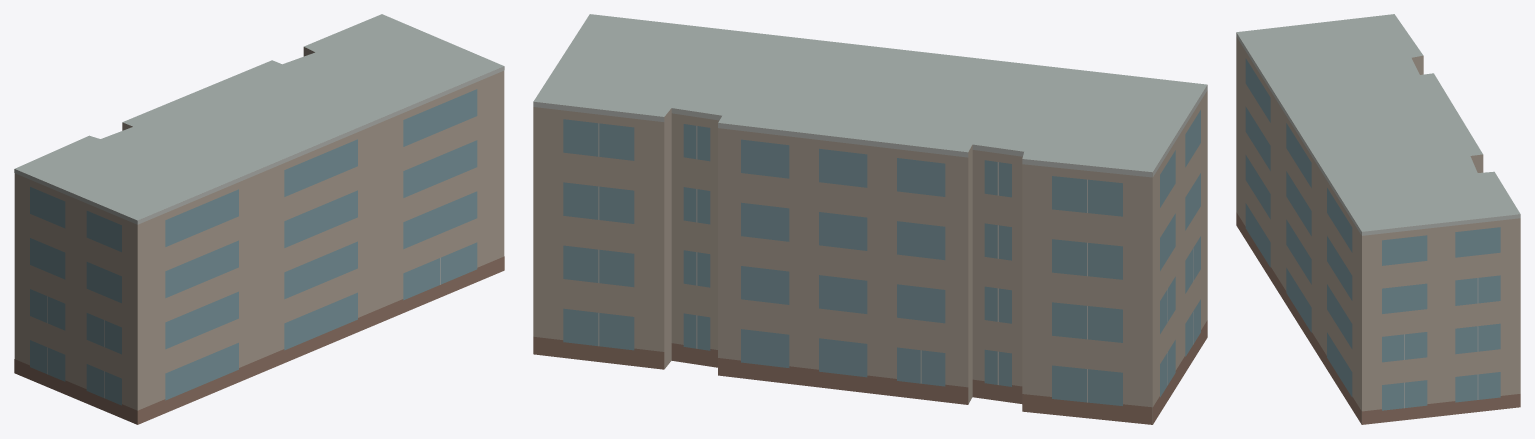
The model's file is survey-upis-32703258.glb.
The picture shows the model from 3 angles, left to right: view 1: azimuth 30°, elevation 25°; view 2: azimuth 150°, elevation 25°; view 3: azimuth 270°, elevation 25°; orthographic projection. The views are drawn at different scales.
Visible parts, largest first — view 1: survey-upis-32703258.tmp; view 2: survey-upis-32703258.tmp; view 3: survey-upis-32703258.tmp.
Boxes of the visible parts, x1=… form: survey-upis-32703258.tmp: x1=14, y1=14, x2=504, y2=424; survey-upis-32703258.tmp: x1=533, y1=14, x2=1207, y2=424; survey-upis-32703258.tmp: x1=1236, y1=14, x2=1520, y2=424.
Bounding box in the file's own units: 28.33 × 11.7 × 15.63.
